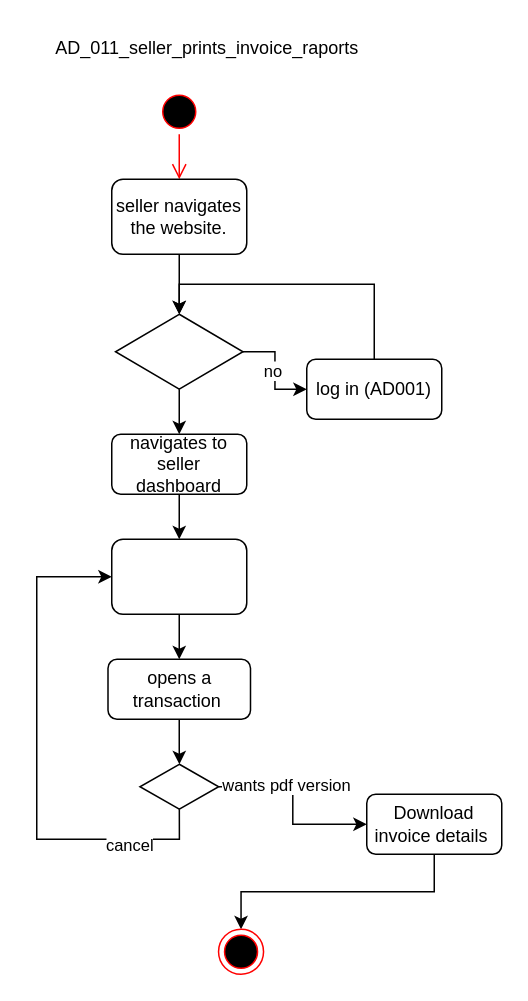
Image size: 528x1001. Some labels were removed from this diagram. The shapes that lost their labels are listed below. From the top down, each one's centre as x and y in pixels, then its label:
[178,351]: is logged in?
[178,576]: navigates to transactions list
